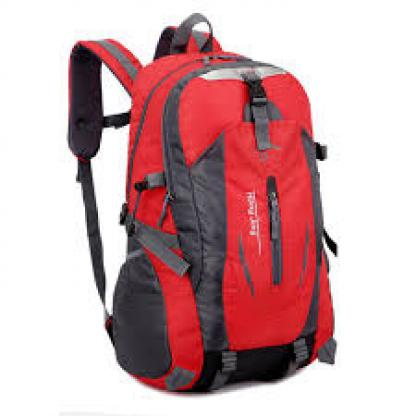morral: (46, 7, 374, 398)
